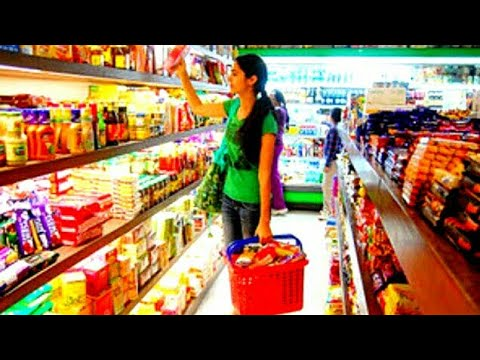Age_20_30: (227, 54, 265, 95)
E_Indian: (227, 54, 265, 95)
Emotion_Neutral: (227, 54, 265, 95)
G_ Female: (227, 54, 265, 95)
Not_Face: (328, 106, 346, 126), (270, 89, 283, 104)
